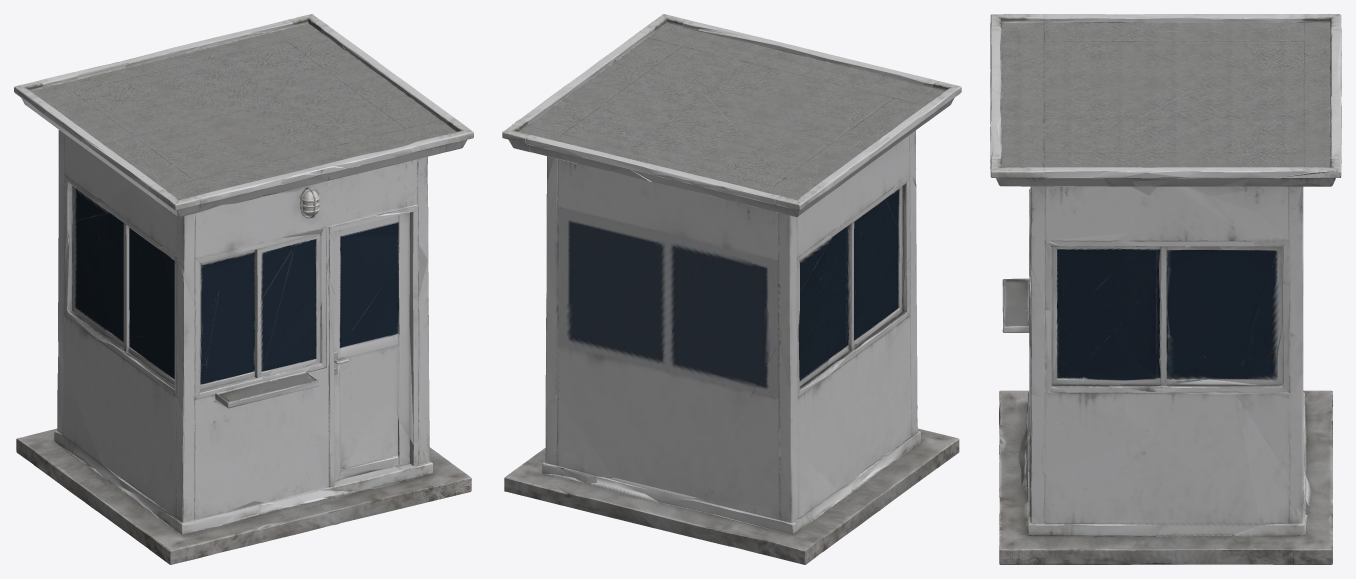
Rendered from guerite.glb.
3 renders of one model, left to right at view 1: azimuth 30°, elevation 25°; view 2: azimuth 150°, elevation 25°; view 3: azimuth 270°, elevation 25°, orthographic. The views are drawn at different scales.
Visible parts, largest first — view 1: output_unwrapped; view 2: output_unwrapped; view 3: output_unwrapped.
Part boxes in pixels (<box>): output_unwrapped: <box>14,14,473,564</box>; output_unwrapped: <box>502,14,961,564</box>; output_unwrapped: <box>990,14,1341,564</box>.
Size of the model in its own units: 1.65 by 1.9 by 1.54.
1 material, 1 textured.
